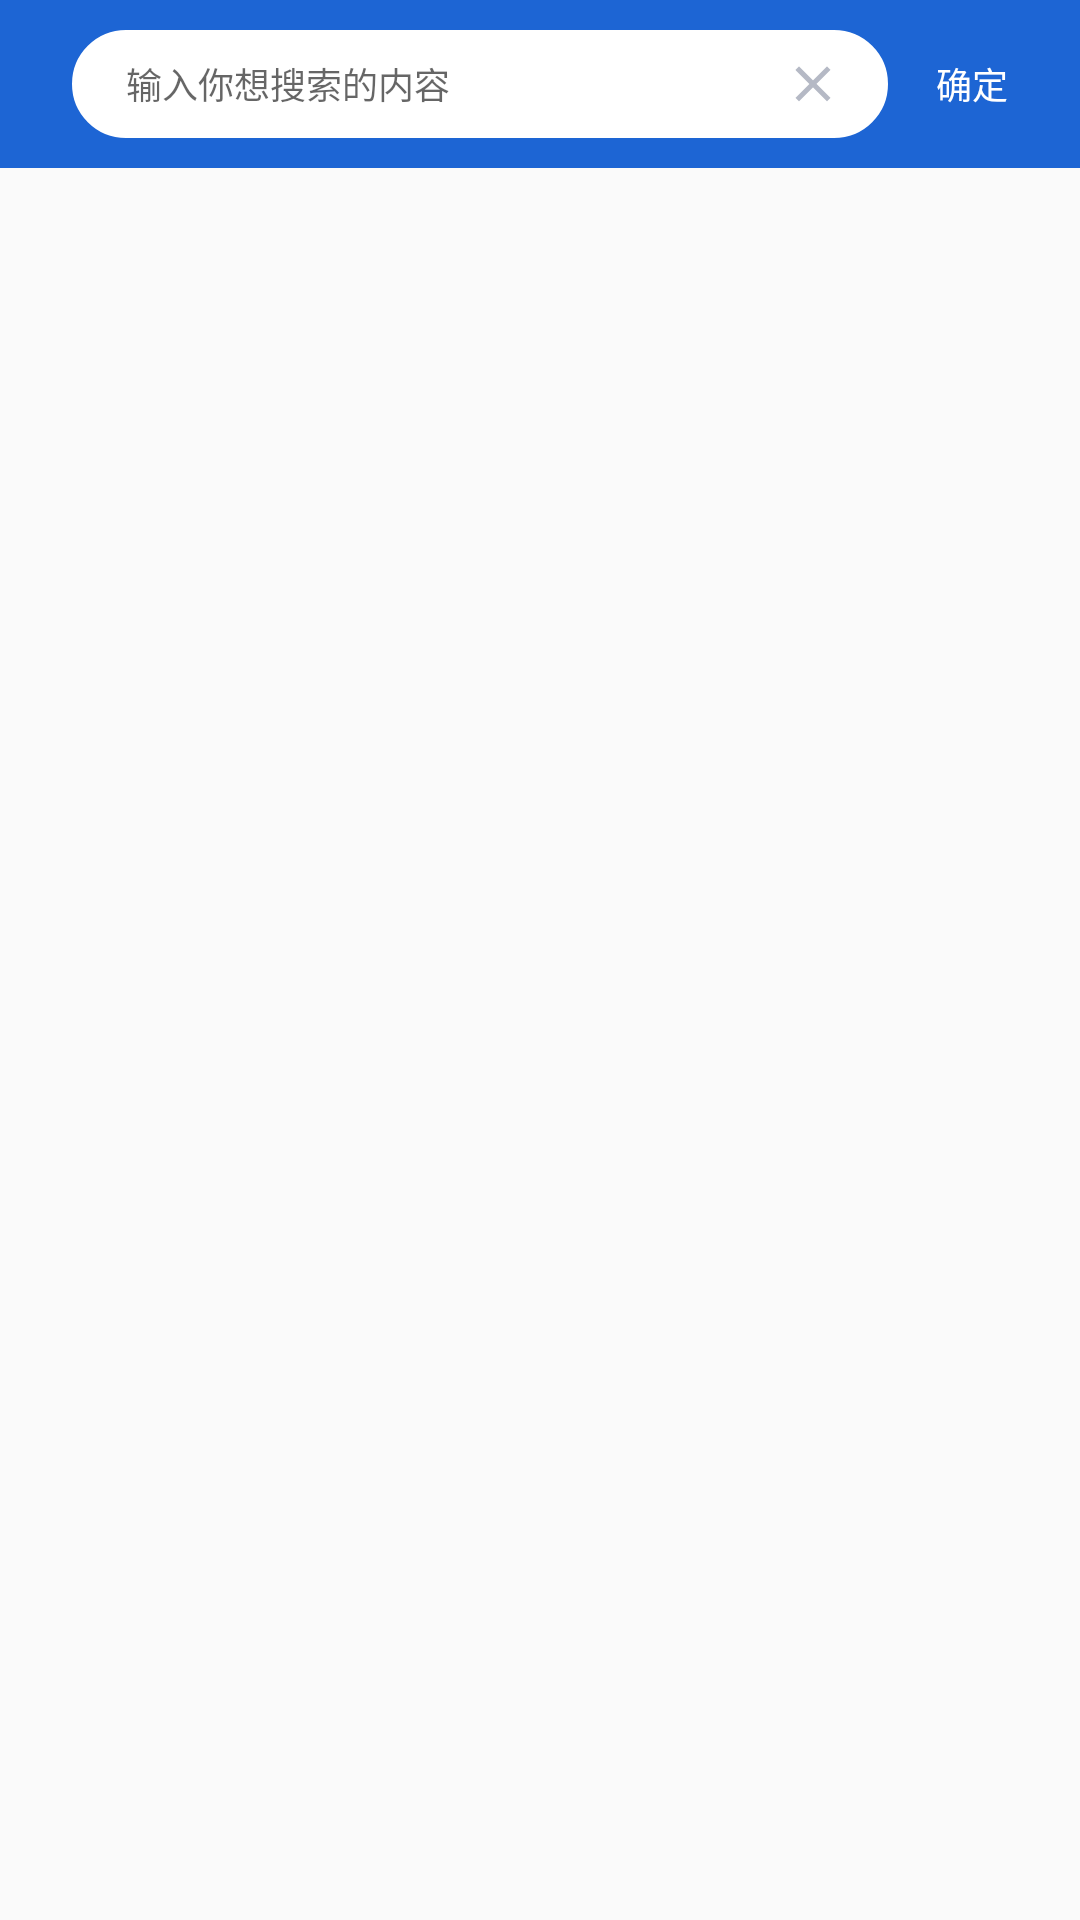

Screen size 1080 x 1920. Icon name, then its box in pixels as (x1, y1, x2, y2):
search close: (796, 67, 830, 101)
